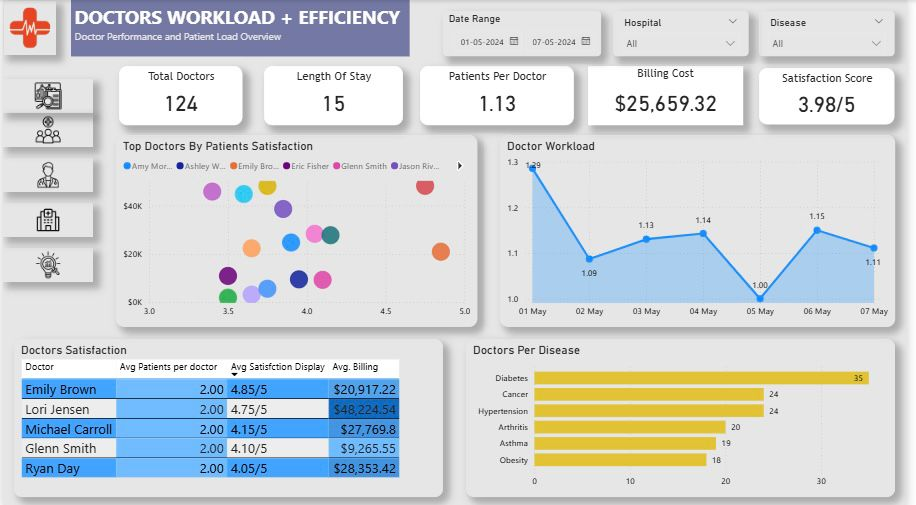

What the dashboard file says about the page in this screenshot:
{"tool":"powerbi","page":{"name":"Page 3","canvas":[1280,720],"ordinal":2},"visuals":[{"type":"shape","box":[0,80,160,640],"z":0},{"type":"image","box":[1.7,1.7,73.9,75.6],"z":1000},{"type":"card","title":"Total Doctors","fields":{"Values":["HospitalData.Total Doctors"]},"box":[164.6,94.1,174.7,84],"z":2000},{"type":"card","title":"Length Of Stay","fields":{"Values":["HospitalData.Average Length Of Stay"]},"box":[369.6,94.1,196.5,84],"z":3000},{"type":"card","title":"Patients Per Doctor","fields":{"Values":["HospitalData.Avg Patients per doctor"]},"box":[591.3,94.1,218.4,84],"z":4000},{"type":"card","title":"Billing Cost ","fields":{"Values":["HospitalData.Avg. Billing"]},"box":[829.8,94.1,220.1,84],"z":5000},{"type":"card","title":"Satisfaction Score","fields":{"Values":["HospitalData.Avg Satisfction Display"]},"box":[1072,96,192,80],"z":6000},{"type":"scatterChart","title":"Top Doctors By Patients Satisfaction","fields":{"X":["HospitalData.Average Satisfaction Score"],"Y":["HospitalData.Avg. Billing"],"Size":["HospitalData.Total Patients"],"Series":["HospitalData.Doctor"]},"box":[160,192,512,272],"z":7000},{"type":"lineChart","title":"Doctor Workload ","fields":{"Category":["HospitalData.Admission Date.Variation.Date Hierarchy.Year","HospitalData.Admission Date.Variation.Date Hierarchy.Month","HospitalData.Admission Date.Variation.Date Hierarchy.Day"],"Y":["HospitalData.Patients Per Doctor"]},"box":[704,192,560,272],"z":8000},{"type":"tableEx","title":"Doctors Satisfaction","fields":{"Values":["HospitalData.Doctor","HospitalData.Avg Patients per doctor","HospitalData.Avg Satisfction Display","HospitalData.Avg. Billing"]},"box":[16,480,608,224],"z":9000},{"type":"slicer","title":"Date Range","fields":{"Values":["HospitalData.Admission Date"]},"box":[624,16,224,64],"z":10000},{"type":"slicer","fields":{"Values":["HospitalData.Hospital"]},"box":[864,16,192,64],"z":11000},{"type":"slicer","fields":{"Values":["HospitalData.Disease"]},"box":[1072,16,192,64],"z":12000},{"type":"barChart","title":"Doctors Per Disease","fields":{"Category":["HospitalData.Disease"],"Y":["CountNonNull(HospitalData.Doctor)"]},"box":[656,480,608,224],"z":13000},{"type":"textbox","box":[96,0,480,80],"z":14000},{"type":"image","box":[0,112,128,48],"z":15000},{"type":"image","box":[0,160,128,48],"z":16000},{"type":"image","box":[0,224,128,48],"z":17000},{"type":"image","box":[0,288,128,48],"z":18000},{"type":"image","box":[0,352,128,48],"z":19000}]}

Visuals, with their boxes in screenshot pixels (x1, y1, x2, y2), scaled from the page's 1280x720 canvas onto the 916x505 screenshot:
shape: left=0, top=56, right=114, bottom=504
image: left=1, top=1, right=54, bottom=54
"Total Doctors" card: left=118, top=66, right=243, bottom=125
"Length Of Stay" card: left=264, top=66, right=405, bottom=125
"Patients Per Doctor" card: left=423, top=66, right=579, bottom=125
"Billing Cost " card: left=594, top=66, right=751, bottom=125
"Satisfaction Score" card: left=767, top=67, right=905, bottom=123
"Top Doctors By Patients Satisfaction" scatterChart: left=114, top=135, right=481, bottom=325
"Doctor Workload " lineChart: left=504, top=135, right=905, bottom=325
"Doctors Satisfaction" tableEx: left=11, top=337, right=447, bottom=494
"Date Range" slicer: left=447, top=11, right=607, bottom=56
slicer - HospitalData.Hospital: left=618, top=11, right=756, bottom=56
slicer - HospitalData.Disease: left=767, top=11, right=905, bottom=56
"Doctors Per Disease" barChart: left=469, top=337, right=905, bottom=494
textbox: left=69, top=0, right=412, bottom=56
image: left=0, top=79, right=92, bottom=112
image: left=0, top=112, right=92, bottom=146
image: left=0, top=157, right=92, bottom=191
image: left=0, top=202, right=92, bottom=236
image: left=0, top=247, right=92, bottom=281
